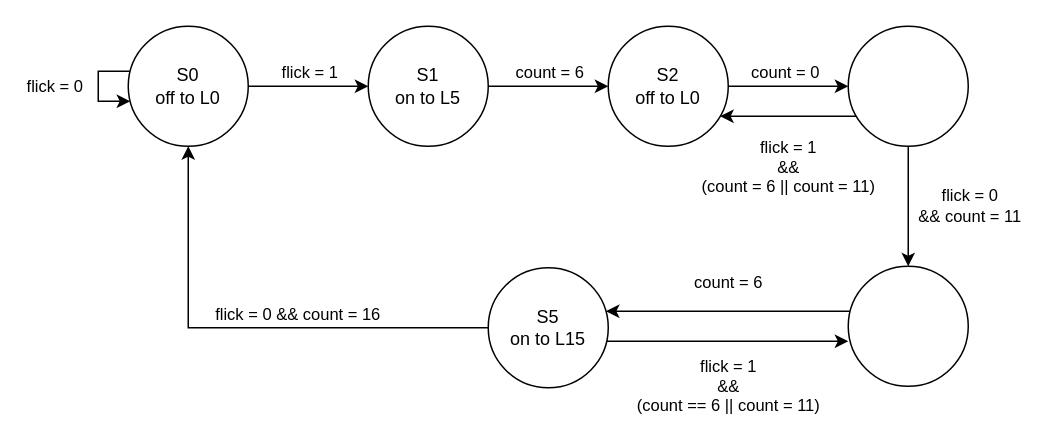
Image size: 1047x441. Some labels were removed from this diagram. Each missing label, with the centre of its shape:
S3 on to L10: [907,85]
S4 off to L5: [907,325]
